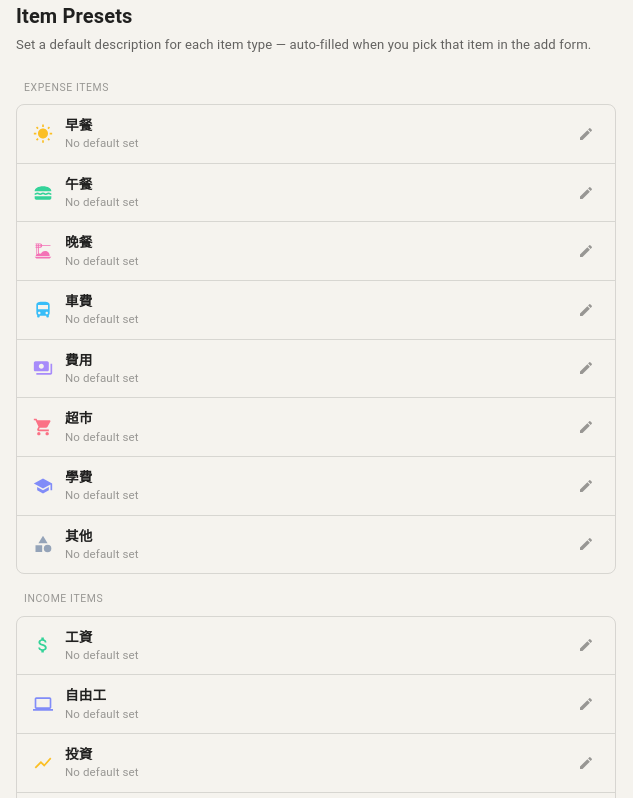
Test: ManageItemsPage › cancels edit when Escape is pressed
This screenshot has width=633, height=798.
Click the button without text in the row of "早餐".
click(586, 134)  # box [573,121,599,147]
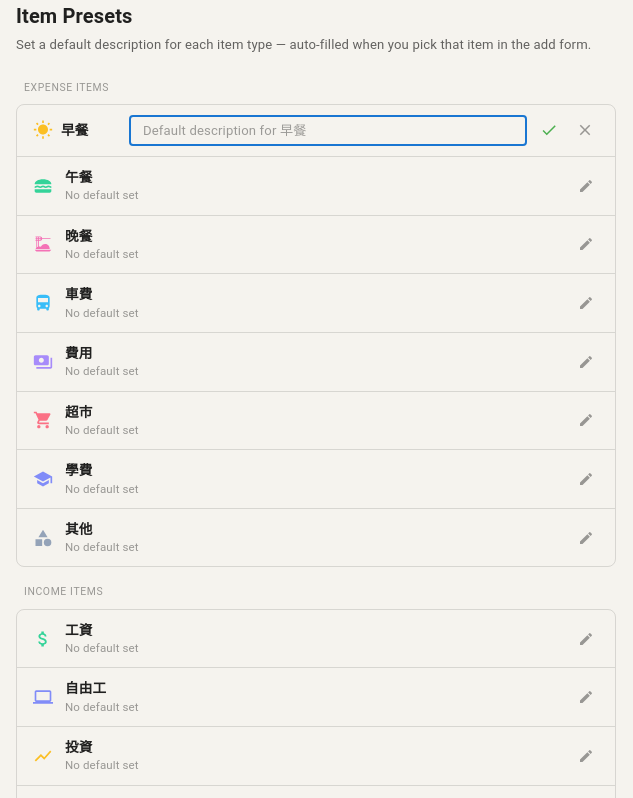
Press Escape in the field, box [129,115,527,146]
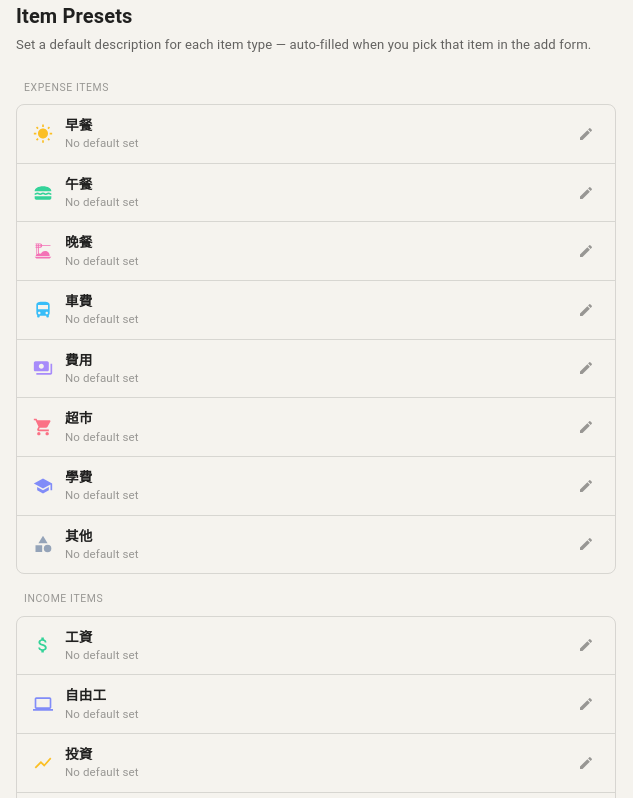
Check: the field is gone
